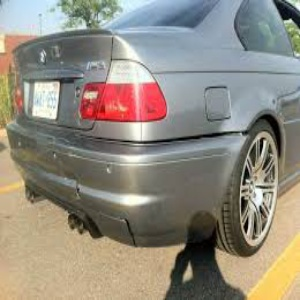bumper_scratch: (53, 170, 96, 204)
